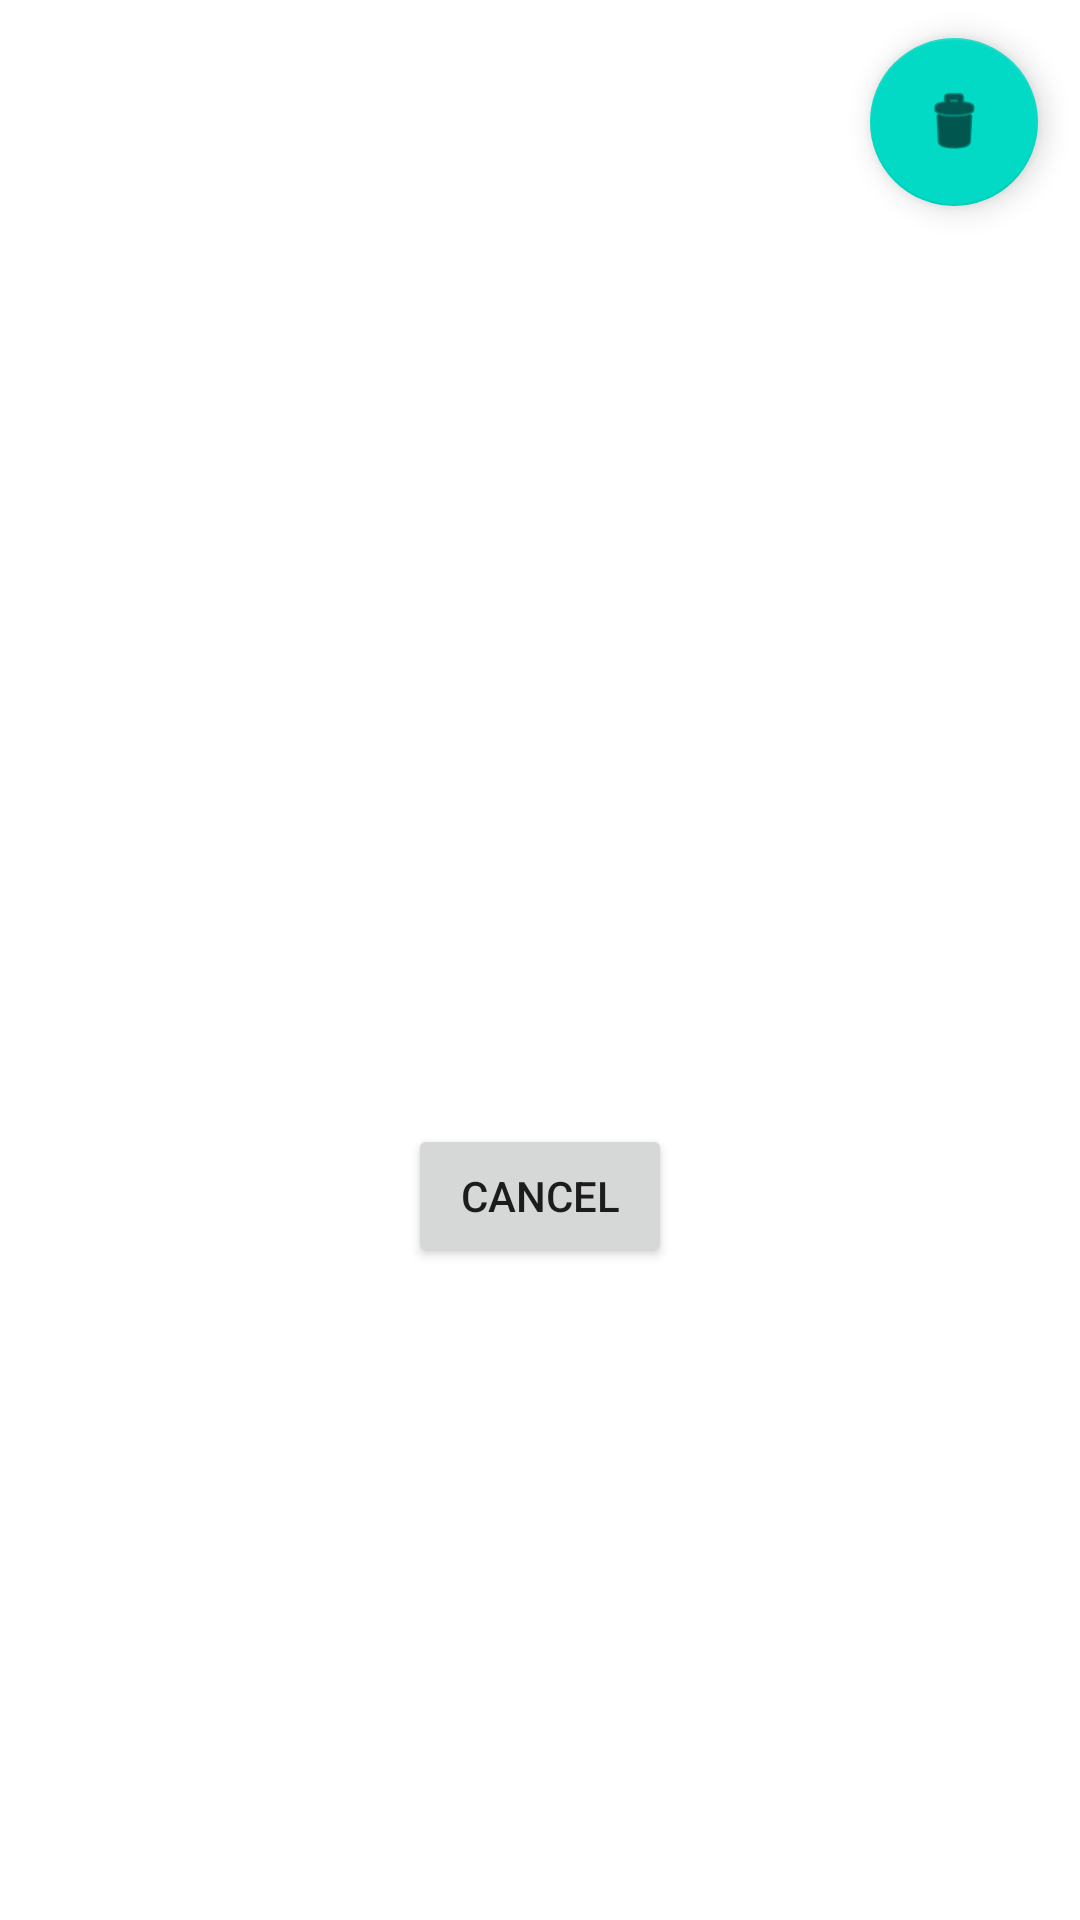

Locate icon controls on the screen. Image size 1080px×1920px, boxes as box=[x1, y1, x2, y2].
delete: box=[870, 38, 1038, 206]
